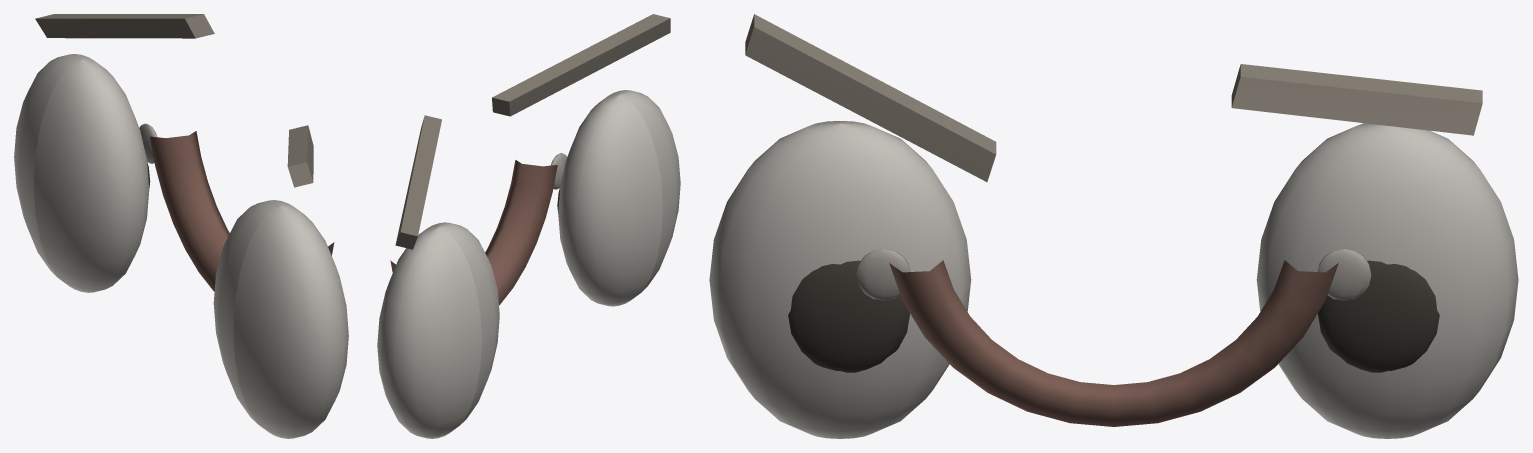
File: googly.glb
3 renders of one model, left to right at view 1: azimuth 30°, elevation 25°; view 2: azimuth 150°, elevation 25°; view 3: azimuth 270°, elevation 25°, orthographic. The views are drawn at different scales.
Visible parts, largest first — view 1: face-googly; view 2: face-googly; view 3: face-googly.
Part boxes in pixels (left/top/right/bottom): face-googly: left=14, top=14, right=348, bottom=438; face-googly: left=377, top=14, right=680, bottom=438; face-googly: left=709, top=14, right=1518, bottom=438.
Size of the model in its own units: 0.0418 by 0.0882 by 0.1597.
